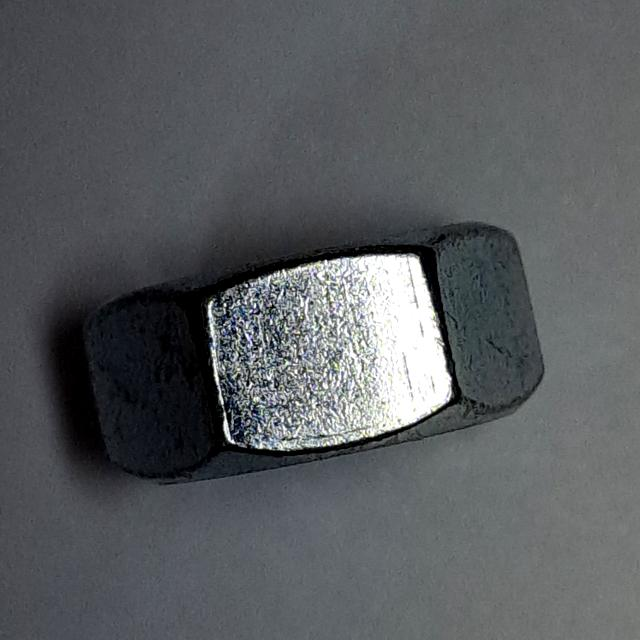Side_Excellent: (66, 205, 566, 502)
